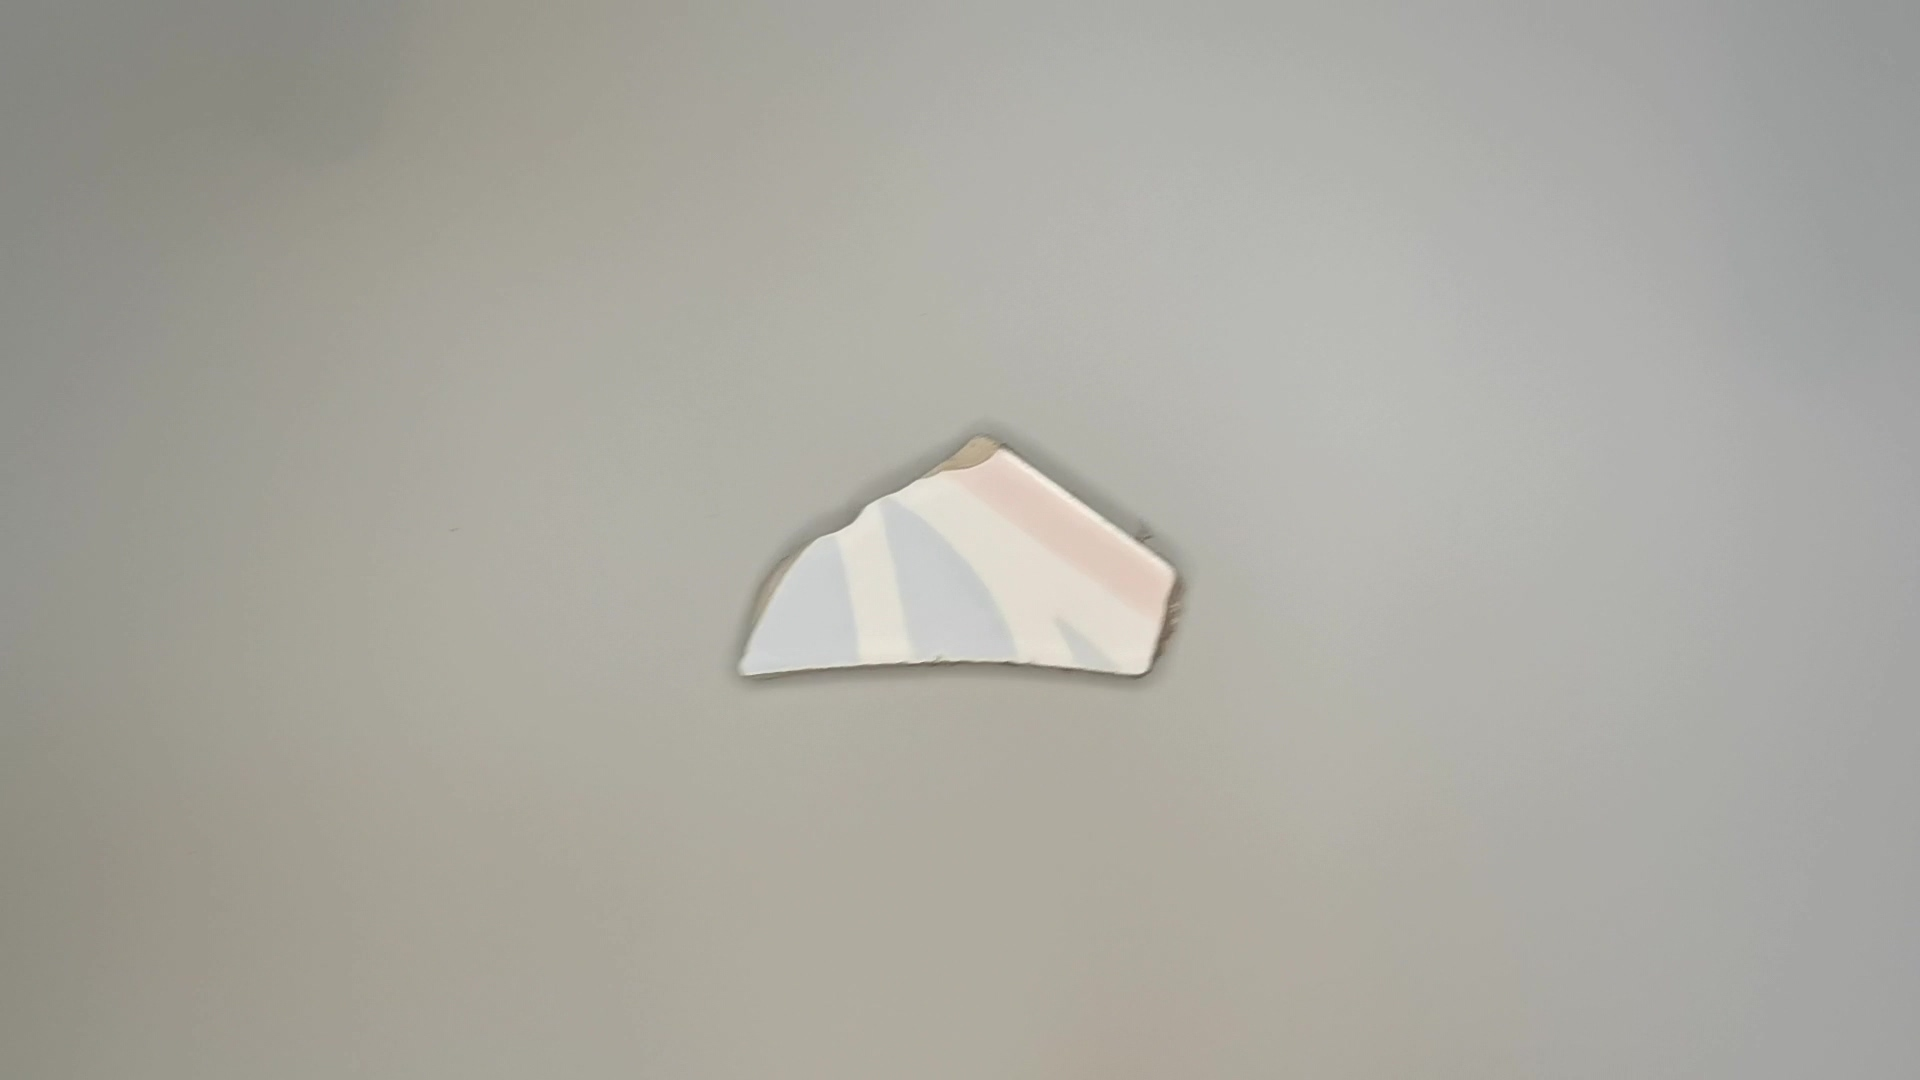ceramic: (729, 425, 1192, 702)
